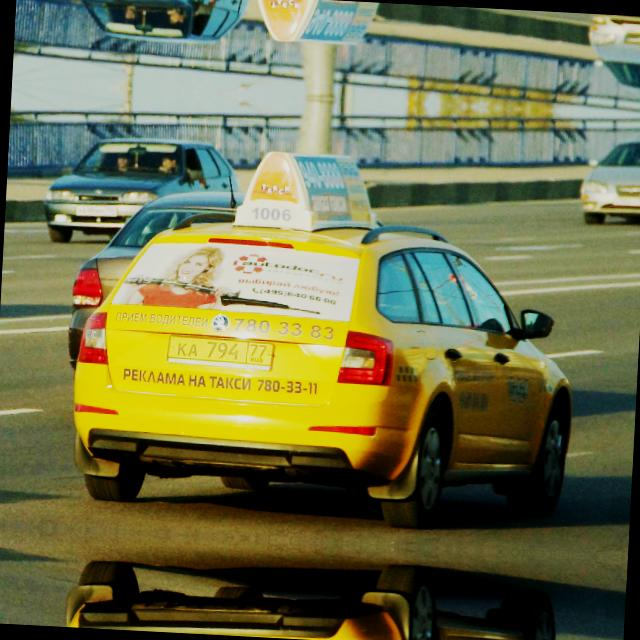citizen: (72, 200, 120, 220)
taxi: (160, 329, 282, 373)
